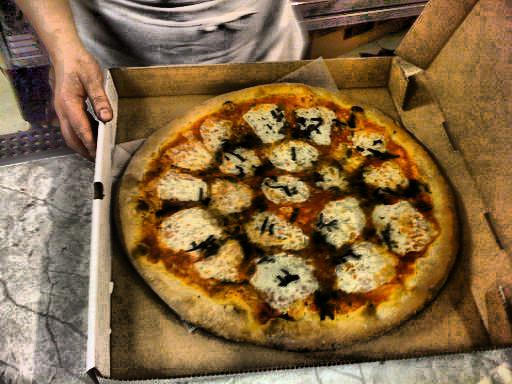pizza: (115, 76, 466, 340)
